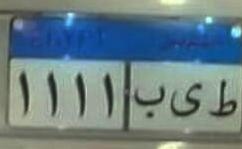1: (99, 71, 121, 118), (71, 70, 89, 117), (47, 72, 58, 116), (20, 71, 30, 115)
Taa: (208, 79, 238, 118)
baa: (133, 85, 167, 118)
yaa: (169, 81, 204, 117)
